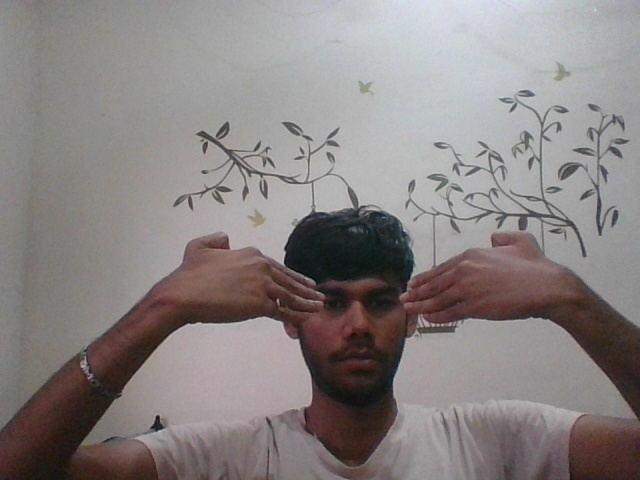I am Utkarsh: (172, 194, 553, 363)
